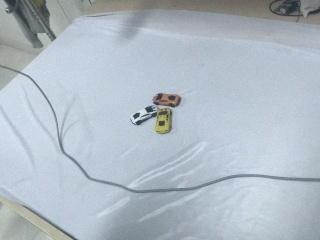toy_car: (131, 93, 181, 134), (155, 108, 172, 134), (152, 93, 181, 107)
